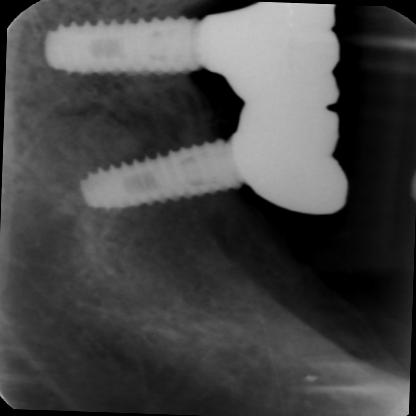ITI: (65, 124, 250, 226), (40, 13, 209, 79)
